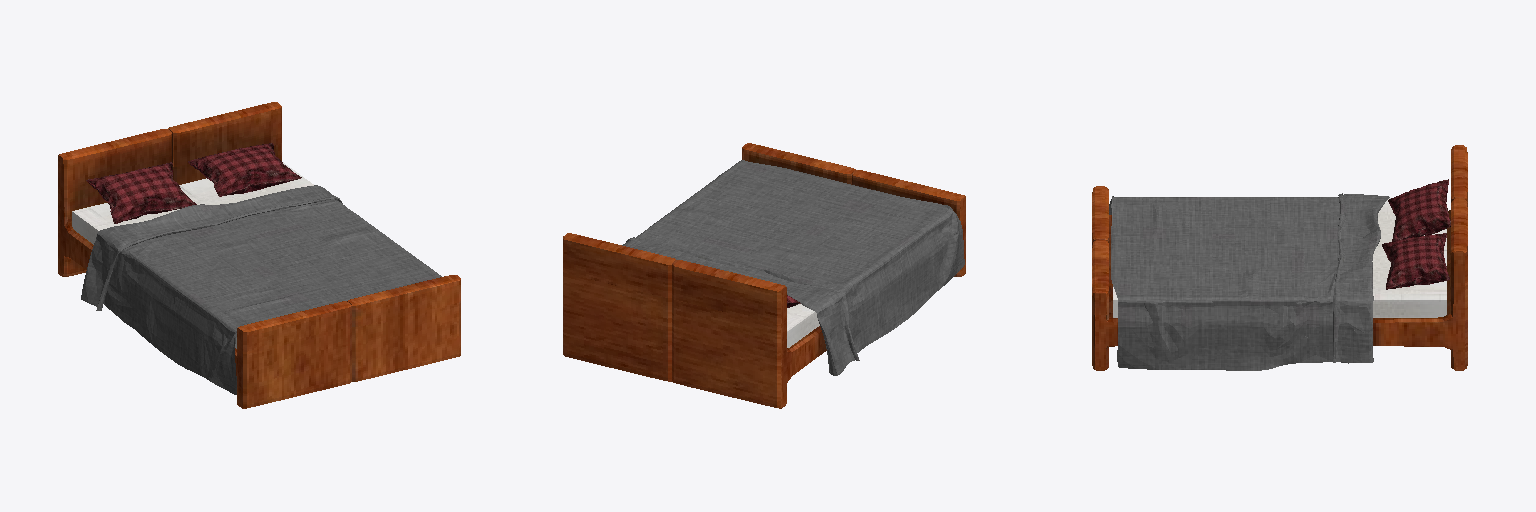
3 renders of one model, left to right at view 1: azimuth 30°, elevation 25°; view 2: azimuth 150°, elevation 25°; view 3: azimuth 270°, elevation 25°, orthographic.
Visible parts, largest first — view 1: messy_bed_messy_bed_Blanket.001, messy_bed_messy_bed_Blue_Wood.001, messy_bed_messy_bed_Brown_Wood.001, messy_bed_messy_bed_Pillow.001, messy_bed_messy_bed_Matress.001; view 2: messy_bed_messy_bed_Blanket.001, messy_bed_messy_bed_Blue_Wood.001, messy_bed_messy_bed_Brown_Wood.001, messy_bed_messy_bed_Matress.001; view 3: messy_bed_messy_bed_Blanket.001, messy_bed_messy_bed_Blue_Wood.001, messy_bed_messy_bed_Pillow.001, messy_bed_messy_bed_Brown_Wood.001, messy_bed_messy_bed_Matress.001.
Part boxes in pixels (x1,y1,x2,y2): messy_bed_messy_bed_Blanket.001: (81,185,441,394); messy_bed_messy_bed_Blue_Wood.001: (58,140,460,408); messy_bed_messy_bed_Brown_Wood.001: (58,102,460,353); messy_bed_messy_bed_Pillow.001: (86,143,301,223); messy_bed_messy_bed_Matress.001: (72,162,313,348); messy_bed_messy_bed_Blanket.001: (622,160,964,375); messy_bed_messy_bed_Blue_Wood.001: (563,219,965,408); messy_bed_messy_bed_Brown_Wood.001: (563,143,965,324); messy_bed_messy_bed_Matress.001: (787,304,819,347); messy_bed_messy_bed_Blanket.001: (1109,193,1389,370); messy_bed_messy_bed_Blue_Wood.001: (1092,210,1467,370); messy_bed_messy_bed_Pillow.001: (1382,179,1450,289); messy_bed_messy_bed_Brown_Wood.001: (1092,145,1467,314); messy_bed_messy_bed_Matress.001: (1113,198,1446,317).
Bounding box in the file's own units: 1.75 × 0.8003 × 2.27.
5 materials, 5 textured.